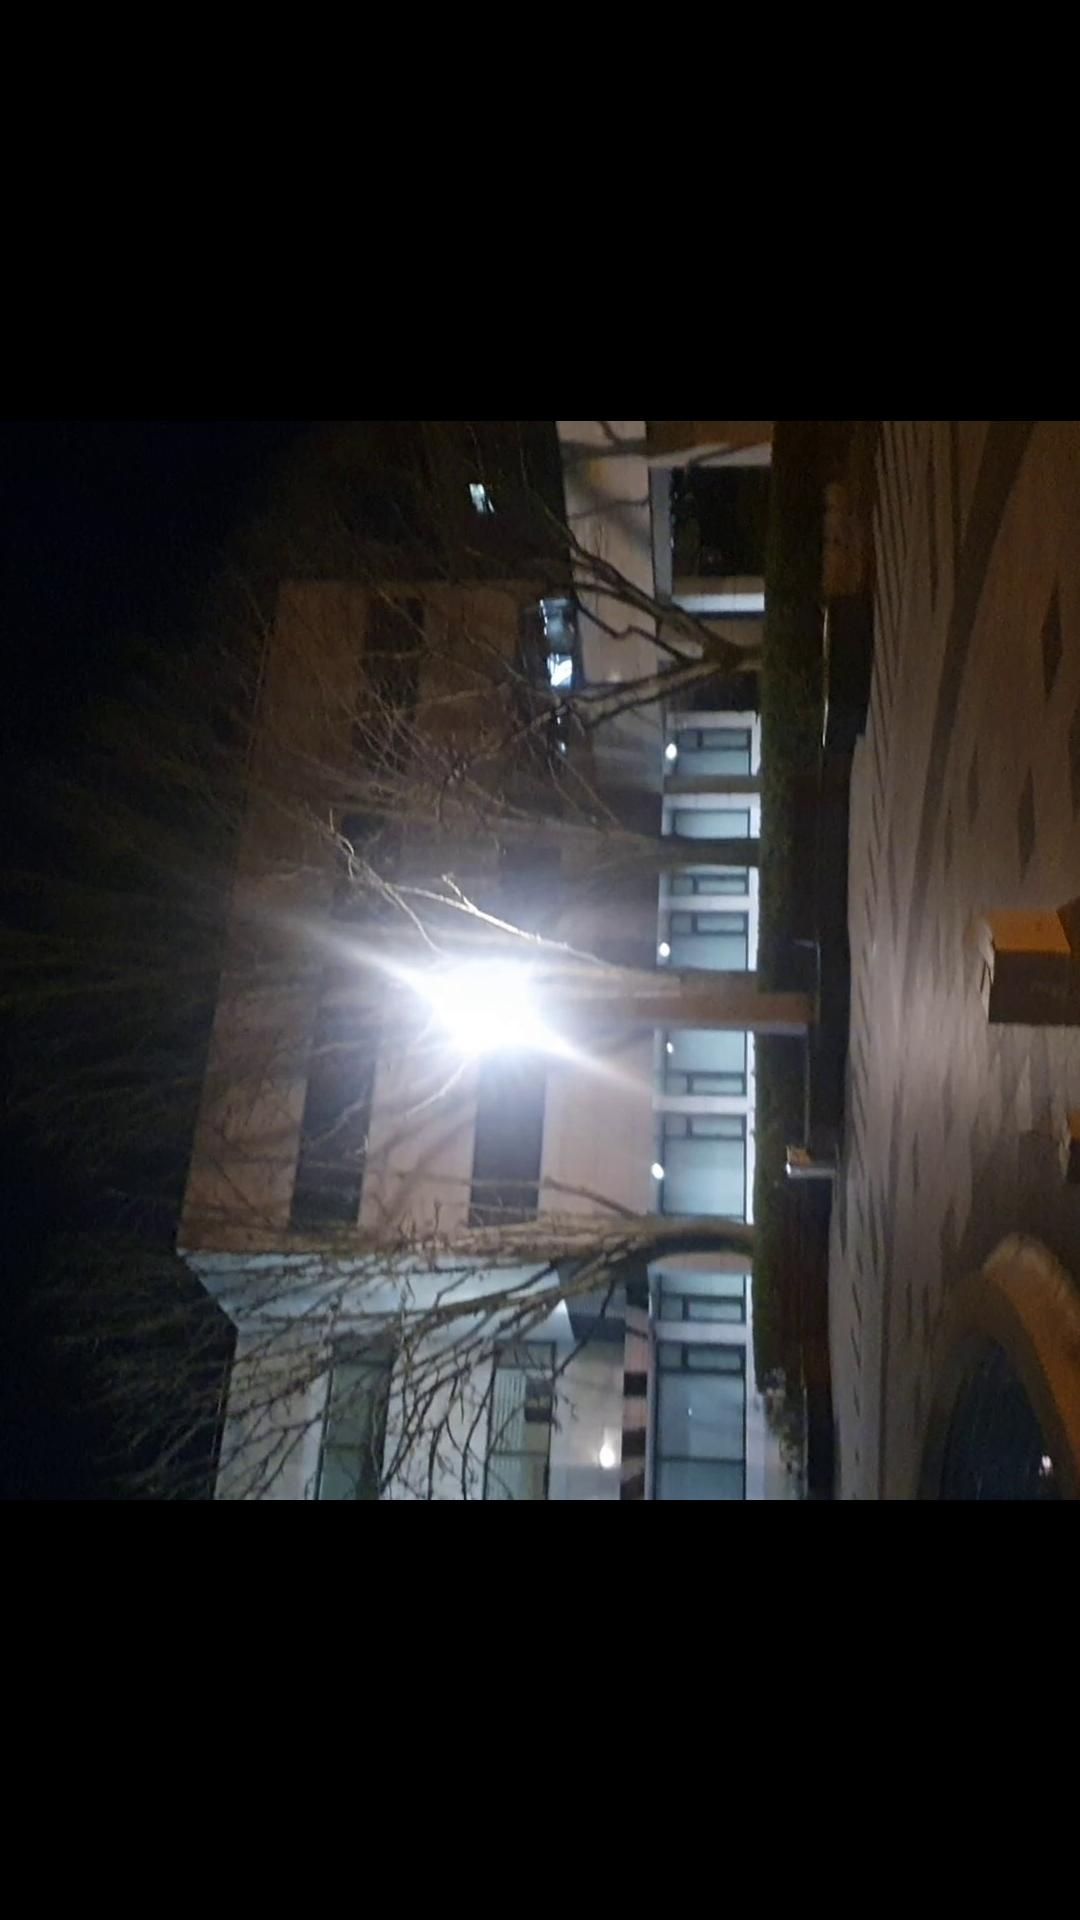Box: (965, 902, 1080, 1029), (1044, 1100, 1080, 1189)
